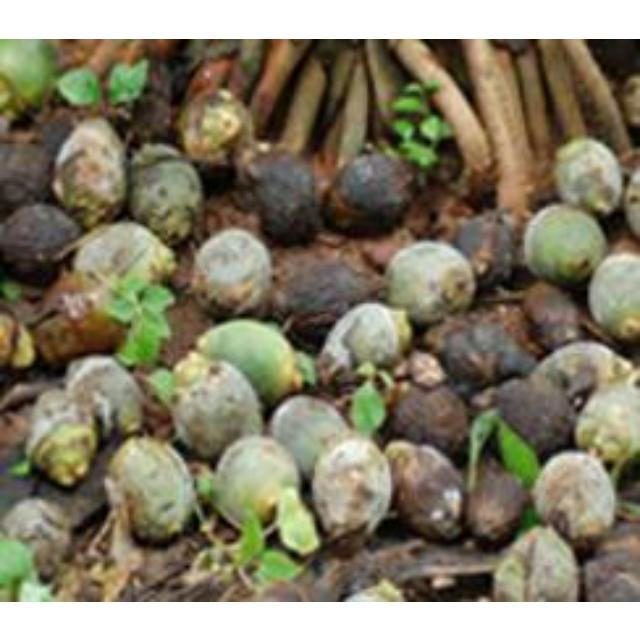damaged: (106, 435, 198, 545), (170, 359, 266, 461), (32, 270, 134, 366), (209, 434, 305, 534), (275, 254, 387, 338), (197, 317, 305, 403), (51, 116, 129, 230), (384, 441, 468, 543), (325, 147, 419, 237), (485, 372, 575, 461), (532, 450, 616, 544), (242, 148, 324, 244), (24, 386, 102, 486), (436, 315, 536, 393), (306, 446, 392, 536), (190, 227, 276, 317), (72, 222, 176, 296), (316, 302, 412, 382), (126, 145, 204, 243), (385, 242, 475, 324), (270, 394, 354, 478), (66, 356, 146, 440), (522, 203, 604, 284), (177, 87, 257, 169), (492, 525, 578, 601), (0, 202, 78, 284), (388, 382, 470, 458), (574, 375, 640, 469), (452, 207, 524, 291), (462, 460, 532, 546), (552, 137, 622, 216), (532, 342, 622, 402), (520, 280, 588, 352), (588, 252, 640, 341), (1, 495, 72, 559), (0, 38, 60, 112), (0, 138, 56, 216), (580, 537, 640, 599), (128, 89, 176, 145), (0, 306, 38, 370), (40, 113, 80, 161), (614, 74, 638, 130)
